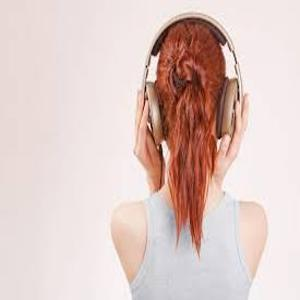Headphones: (139, 11, 243, 145)
